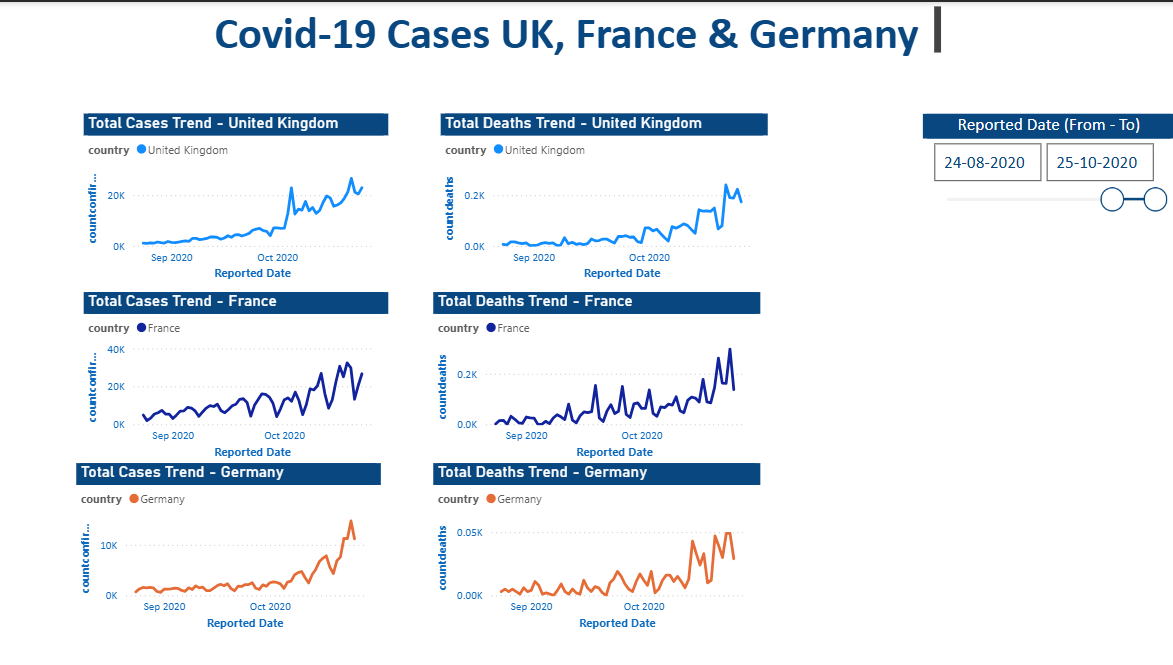

The dashboard page shown, as its layout file describes it:
{"tool":"powerbi","page":{"name":"Trends - Country","canvas":[1280,720],"ordinal":1},"visuals":[{"type":"lineChart","title":"Total Cases Trend - United Kingdom","fields":{"Category":["covid_reporting cases_and_deaths.reported_date"],"Y":["Sum(covid_reporting cases_and_deaths.countconfirmed_cases)"],"Series":["covid_reporting cases_and_deaths.country"]},"box":[104,120,328,184],"z":0},{"type":"slicer","title":"Reported Date (From - To)","fields":{"Values":["covid_reporting cases_and_deaths.reported_date"]},"box":[1008,120,272,112],"z":1000},{"type":"lineChart","title":"Total Cases Trend - France","fields":{"Category":["covid_reporting cases_and_deaths.reported_date"],"Y":["Sum(covid_reporting cases_and_deaths.countconfirmed_cases)"],"Series":["covid_reporting cases_and_deaths.country"]},"box":[104,312,328,184],"z":2000},{"type":"lineChart","title":"Total Cases Trend - Germany","fields":{"Category":["covid_reporting cases_and_deaths.reported_date"],"Y":["Sum(covid_reporting cases_and_deaths.countconfirmed_cases)"],"Series":["covid_reporting cases_and_deaths.country"]},"box":[96,496,328,184],"z":3000},{"type":"lineChart","title":"Total Deaths Trend - United Kingdom","fields":{"Category":["covid_reporting cases_and_deaths.reported_date"],"Y":["Sum(covid_reporting cases_and_deaths.countdeaths)"],"Series":["covid_reporting cases_and_deaths.country"]},"box":[488,120,352,184],"z":4000},{"type":"lineChart","title":"Total Deaths Trend - France","fields":{"Category":["covid_reporting cases_and_deaths.reported_date"],"Y":["Sum(covid_reporting cases_and_deaths.countdeaths)"],"Series":["covid_reporting cases_and_deaths.country"]},"box":[480,312,352,184],"z":5000},{"type":"lineChart","title":"Total Deaths Trend - Germany","fields":{"Category":["covid_reporting cases_and_deaths.reported_date"],"Y":["Sum(covid_reporting cases_and_deaths.countdeaths)"],"Series":["covid_reporting cases_and_deaths.country"]},"box":[480,496,352,184],"z":6000},{"type":"textbox","box":[240,0,792,64],"z":7000}]}

Visuals, with their boxes in screenshot pixels (x1, y1, x2, y2), scaled from the page's 1280x720 canvas onto the 1173x665 screenshot:
"Total Cases Trend - United Kingdom" lineChart: 95:111:396:281
"Reported Date (From - To)" slicer: 924:111:1172:214
"Total Cases Trend - France" lineChart: 95:288:396:458
"Total Cases Trend - Germany" lineChart: 88:458:389:628
"Total Deaths Trend - United Kingdom" lineChart: 447:111:770:281
"Total Deaths Trend - France" lineChart: 440:288:762:458
"Total Deaths Trend - Germany" lineChart: 440:458:762:628
textbox: 220:0:946:59
